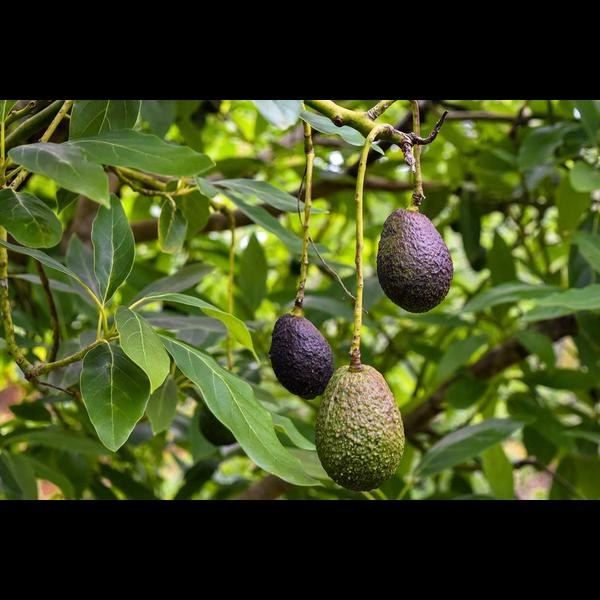almost: (377, 208, 454, 314)
ripe: (269, 313, 334, 399)
unripe: (315, 363, 405, 491)
